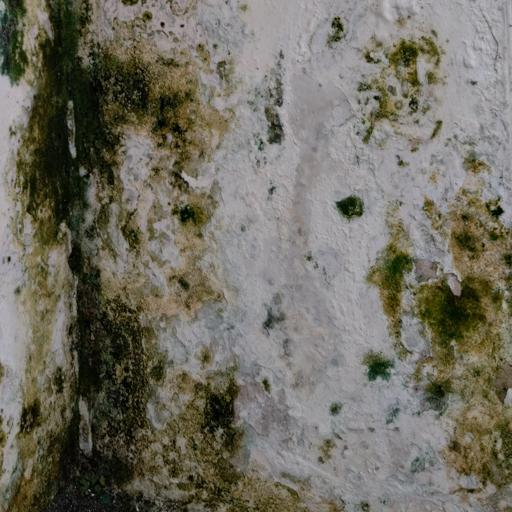algae: (0, 0, 374, 510)
